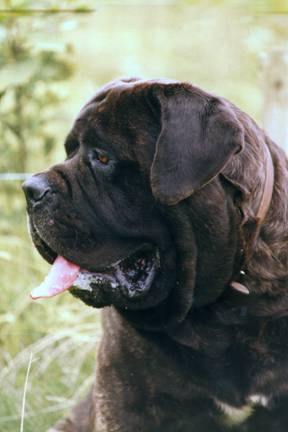mastiff: (21, 75, 286, 431)
